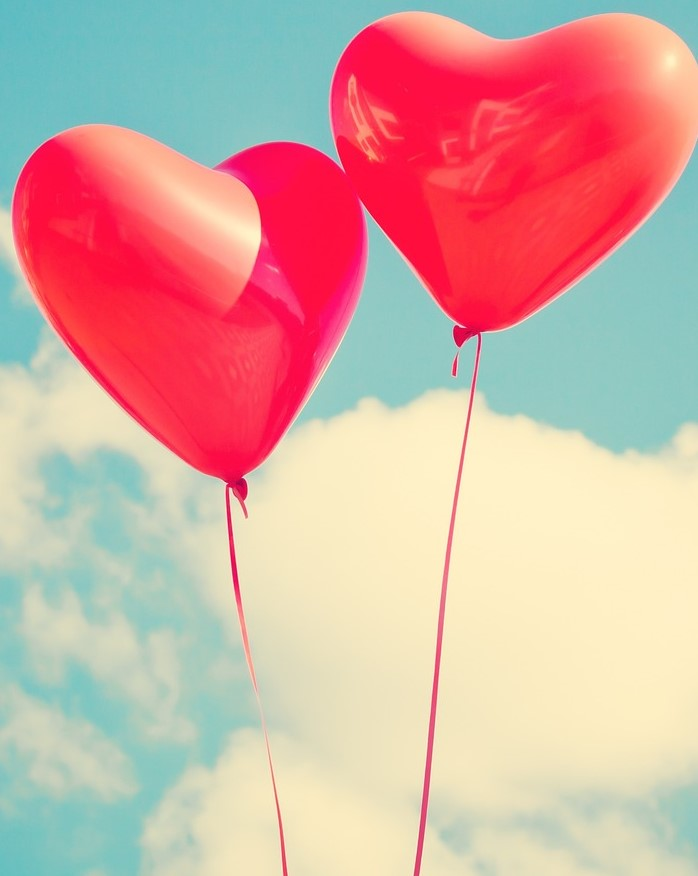Balloon: (10, 124, 365, 483), (329, 10, 698, 334)
